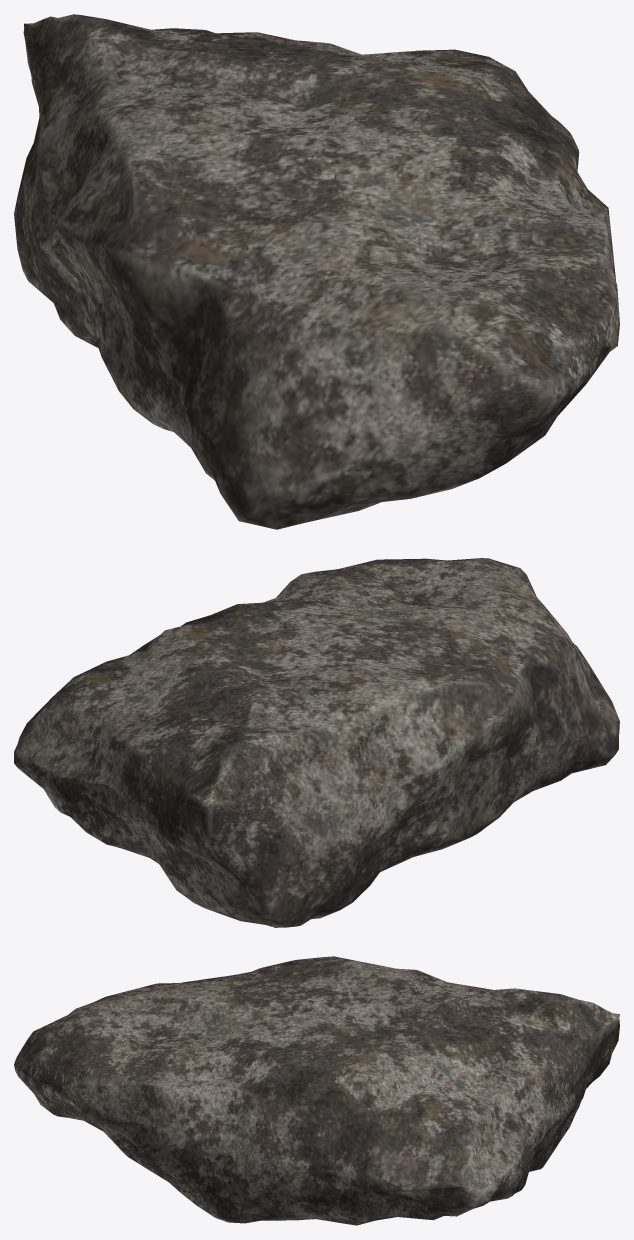
The model's file is stone.glb.
3 views of the same model, one above another, from view 1: azimuth 30°, elevation 25°; view 2: azimuth 150°, elevation 25°; view 3: azimuth 270°, elevation 25° (orthographic). The views are drawn at different scales.
Parts seen in each view (by area): view 1: Rock01_Rock01Shader_0; view 2: Rock01_Rock01Shader_0; view 3: Rock01_Rock01Shader_0.
Part boxes in pixels (left/top/right/bottom): Rock01_Rock01Shader_0: left=14, top=14, right=619, bottom=529; Rock01_Rock01Shader_0: left=14, top=558, right=619, bottom=927; Rock01_Rock01Shader_0: left=14, top=956, right=619, bottom=1225.
Size of the model in its own units: 7.68 by 3.64 by 11.16.
1 material, 1 textured.
